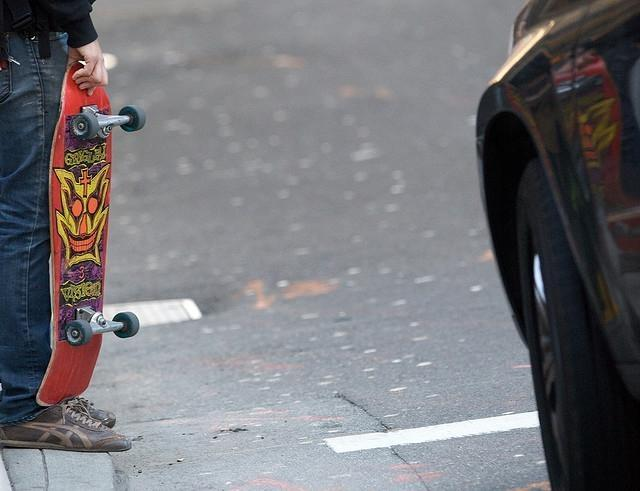car: (471, 6, 634, 482)
